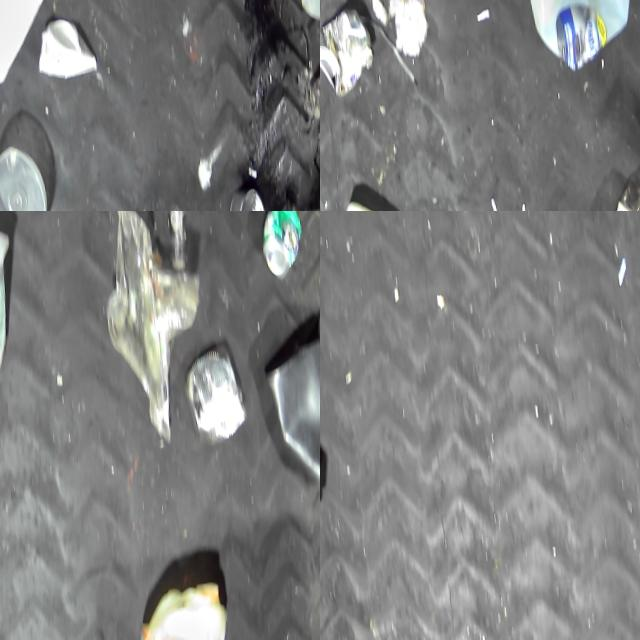can: (178, 334, 248, 443), (320, 0, 377, 104), (257, 211, 305, 277), (225, 178, 268, 211)
milk_jug: (517, 0, 638, 65)
non_white_jug: (125, 572, 232, 640)
